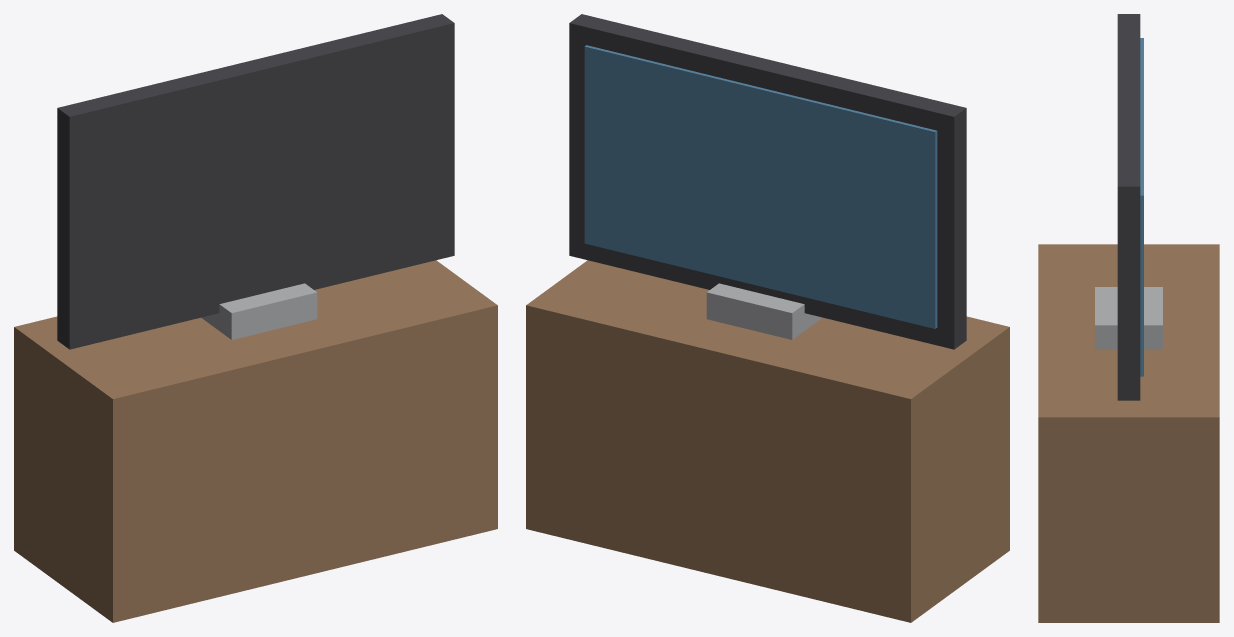
The picture shows the model from 3 angles, left to right: view 1: azimuth 30°, elevation 25°; view 2: azimuth 150°, elevation 25°; view 3: azimuth 270°, elevation 25°; orthographic projection. The views are drawn at different scales.
Visible parts, largest first — view 1: tv; view 2: tv; view 3: tv.
Part boxes in pixels (<box>): tv: <box>14,14,497,622</box>; tv: <box>526,14,1009,622</box>; tv: <box>1038,14,1219,622</box>.
Bounding box in the file's own units: 0.9 × 1.06 × 0.4.
